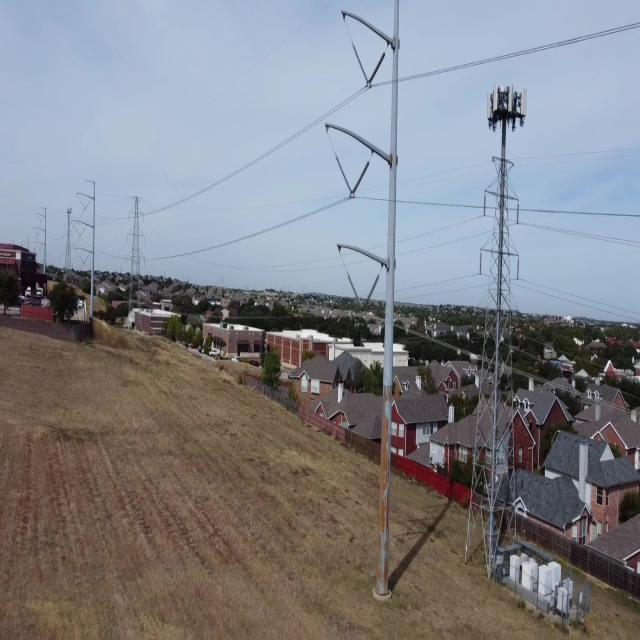杆塔: (458, 151, 528, 578), (118, 182, 152, 338), (60, 200, 81, 294)
正常绝缘子: (331, 146, 358, 204), (347, 32, 373, 91), (357, 268, 383, 326), (346, 154, 374, 206), (342, 264, 367, 314), (363, 44, 389, 92), (512, 189, 525, 229), (475, 244, 487, 284), (480, 184, 491, 226), (512, 248, 523, 290)
